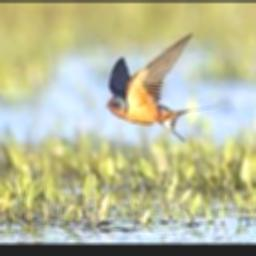Swallow: (106, 33, 219, 143)
